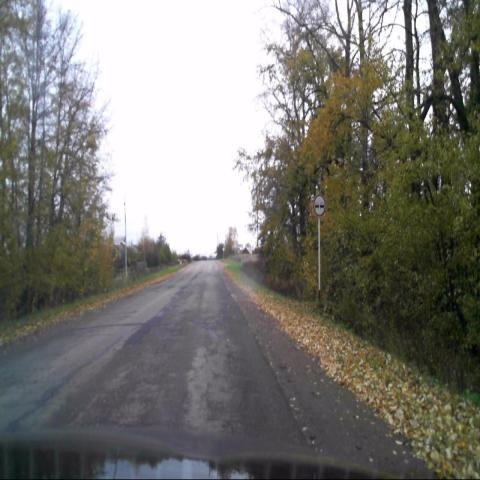3_20: (313, 193, 326, 217)
